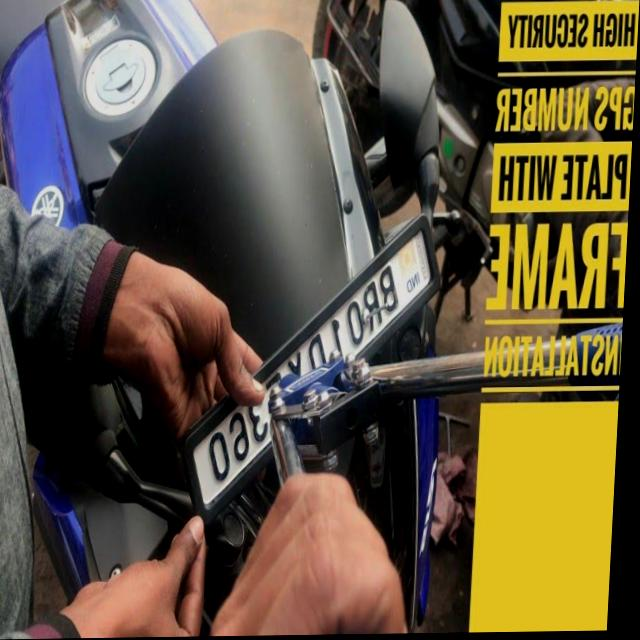0: (211, 433, 235, 484), (350, 301, 368, 345)
1: (333, 316, 349, 361)
3: (253, 396, 273, 444)
6: (235, 412, 254, 465)
b: (383, 265, 405, 314)
d: (314, 333, 331, 376)
r: (365, 283, 386, 334)
